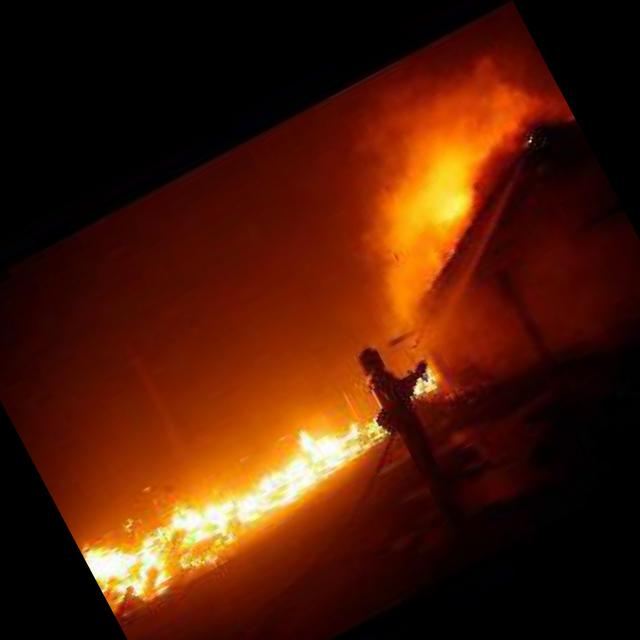fire: (75, 391, 396, 613), (413, 368, 438, 392)
smoke: (300, 33, 595, 320)
